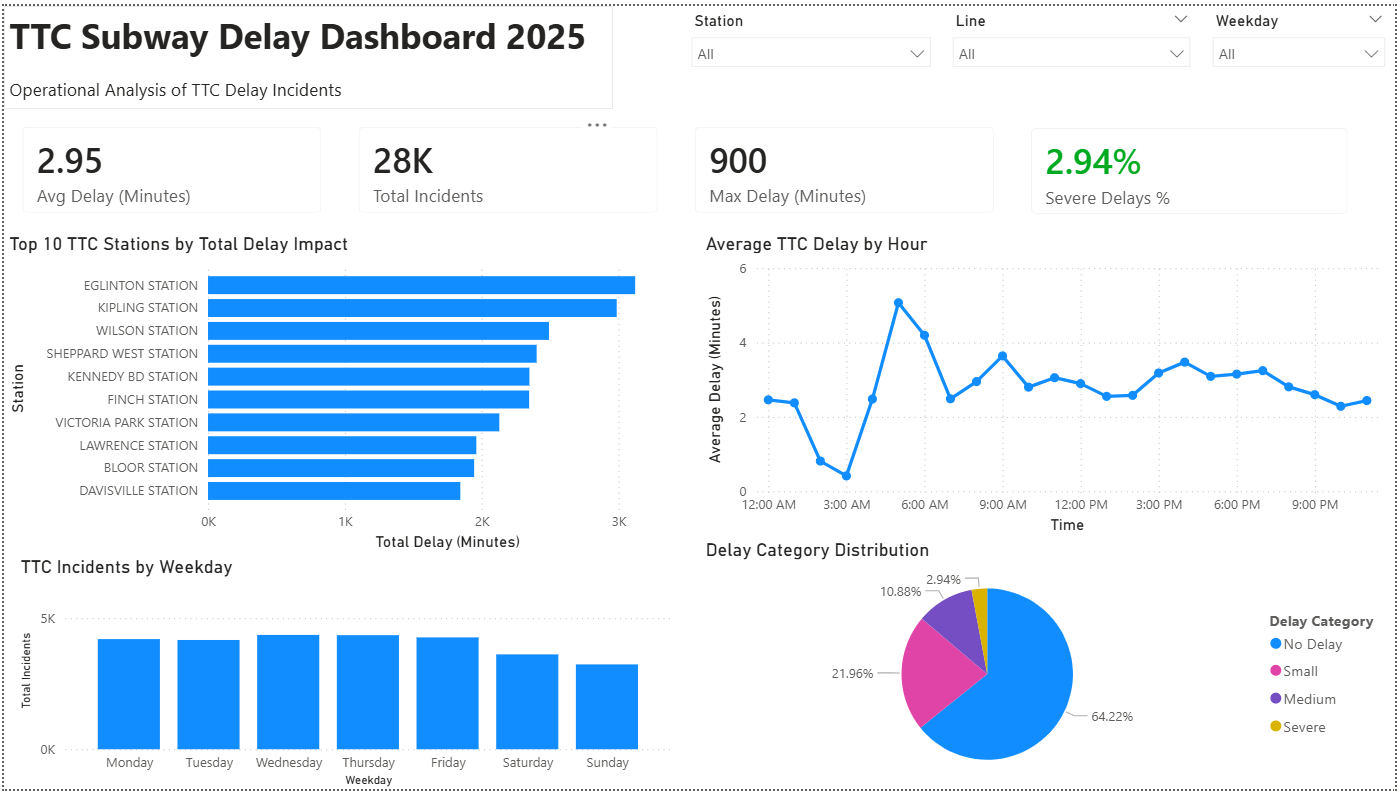

This screenshot's page, from the dashboard's own definition file:
{"tool":"powerbi","page":{"name":"Page 1","canvas":[1280,720],"ordinal":0},"visuals":[{"type":"cardVisual","fields":{"Data":["Avg(ttc_cleaned.Min Delay)"]},"box":[0,94.5,309.3,113.1],"z":0},{"type":"cardVisual","title":"Total Delay Incidents","fields":{"Data":["ttc_cleaned.Total Incidents"]},"box":[309.3,94.8,309.3,113.1],"z":1000},{"type":"cardVisual","fields":{"Data":["Max(ttc_cleaned.Min Delay)"]},"box":[618.7,94.8,309.3,113.1],"z":2000},{"type":"clusteredBarChart","title":"Top 10 TTC Stations by Total Delay Impact","fields":{"Category":["ttc_cleaned.Station"],"Y":["Sum(ttc_cleaned.Min Delay)"]},"box":[0,207.7,640.1,297.9],"z":3000},{"type":"lineChart","title":"Average TTC Delay by Hour","fields":{"Y":["Avg(ttc_cleaned.Min Delay)"],"Category":["ttc_cleaned.Hour Label"]},"box":[640.1,207.7,640.1,282.1],"z":4000},{"type":"columnChart","title":"TTC Incidents by Weekday","fields":{"Category":["ttc_cleaned.Weekday"],"Y":["ttc_cleaned.Total Incidents"]},"box":[10,505.5,608.6,217.7],"z":5000},{"type":"pieChart","title":"Delay Category Distribution","fields":{"Y":["ttc_cleaned.Total Incidents"],"Category":["ttc_cleaned.Delay Category"]},"box":[640.1,489.8,640.1,230.6],"z":6000},{"type":"slicer","fields":{"Values":["ttc_cleaned.Line"]},"box":[862.1,0,239.2,78.8],"z":7000},{"type":"slicer","fields":{"Values":["ttc_cleaned.Weekday"]},"box":[1101.3,0,179,78.8],"z":8000},{"type":"slicer","fields":{"Values":["ttc_cleaned.Station"]},"box":[621.5,0,240.6,78.8],"z":9000},{"type":"textbox","box":[0,0,559.9,94.5],"z":10000},{"type":"cardVisual","fields":{"Data":["ttc_cleaned.Severe %"]},"box":[928,95.1,325.1,113.1],"z":10001}]}

Visuals, with their boxes in screenshot pixels (x1, y1, x2, y2), scaled from the page's 1280x720 canvas onto the 1397x791 screenshot:
cardVisual - Avg(ttc_cleaned.Min Delay): [0, 104, 338, 228]
"Total Delay Incidents" cardVisual: [338, 104, 675, 228]
cardVisual - Max(ttc_cleaned.Min Delay): [675, 104, 1013, 228]
"Top 10 TTC Stations by Total Delay Impact" clusteredBarChart: [0, 228, 699, 555]
"Average TTC Delay by Hour" lineChart: [699, 228, 1396, 538]
"TTC Incidents by Weekday" columnChart: [11, 555, 675, 790]
"Delay Category Distribution" pieChart: [699, 538, 1396, 790]
slicer - ttc_cleaned.Line: [941, 0, 1202, 87]
slicer - ttc_cleaned.Weekday: [1202, 0, 1396, 87]
slicer - ttc_cleaned.Station: [678, 0, 941, 87]
textbox: [0, 0, 611, 104]
cardVisual - ttc_cleaned.Severe %: [1013, 104, 1368, 229]
